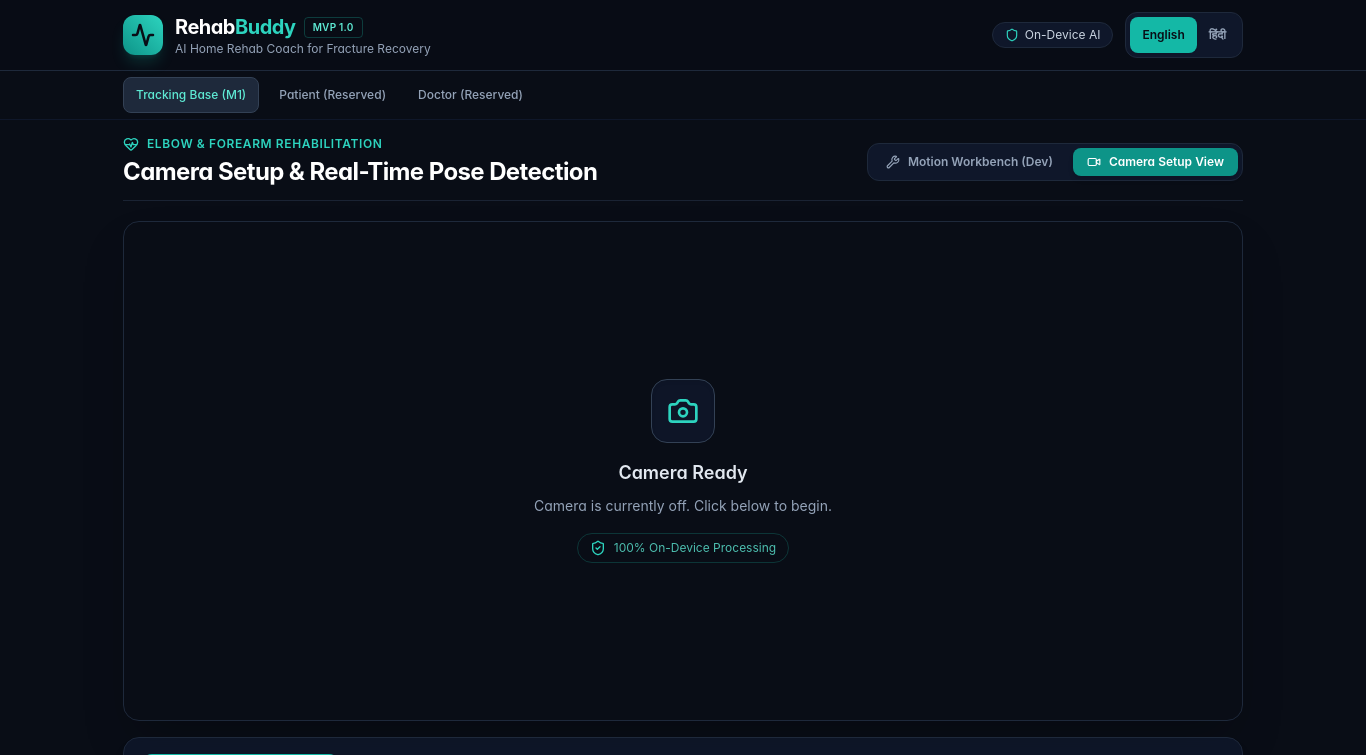
Scenario: App Initial Render and Accessibility › switches language from English to Hindi and updates UI text
Click the button named "हिंदी में बदलें".
click(1217, 35)  # box x1=1197 y1=17 x2=1238 y2=53
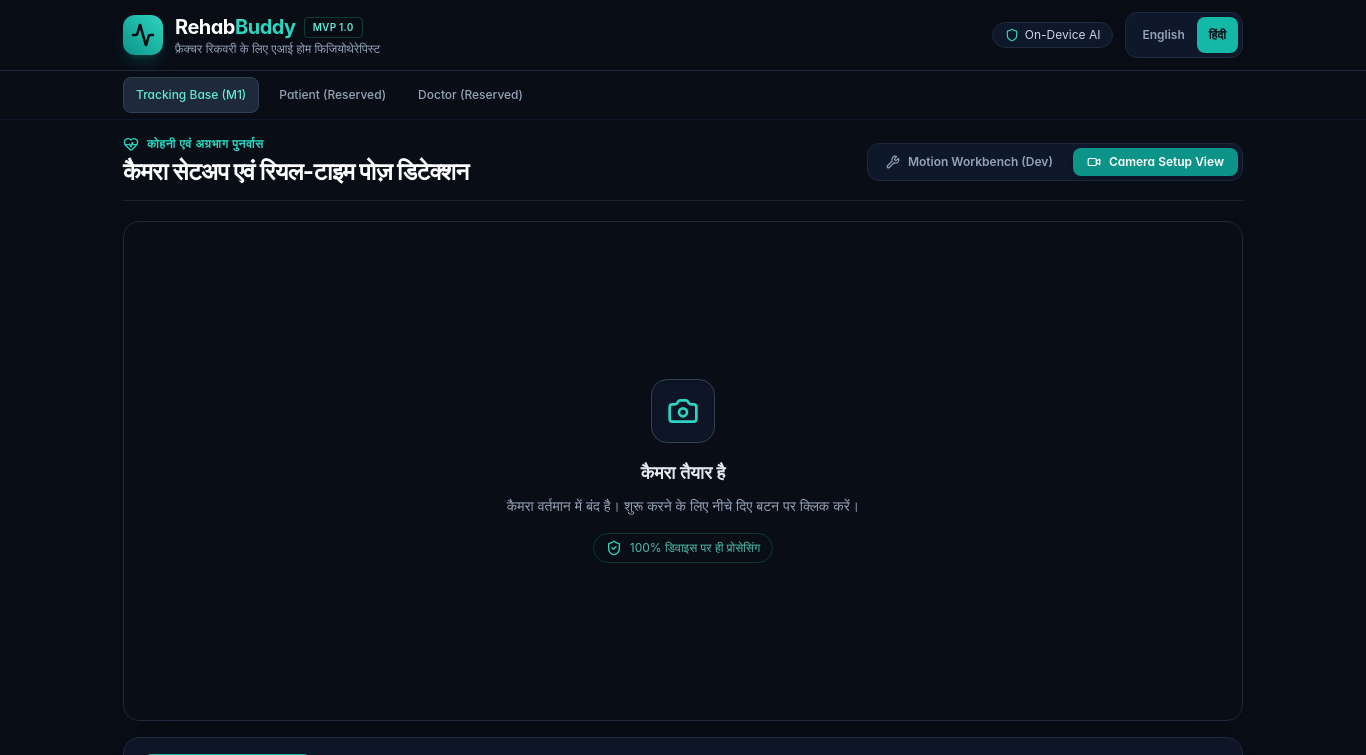
Check: the text "कोहनी एवं अग्रभाग पुनर्वास" is shown, box x1=147 y1=136 x2=264 y2=152
Click the button with aria-label "Switch to English".
click(1164, 35)  # box x1=1130 y1=17 x2=1197 y2=53
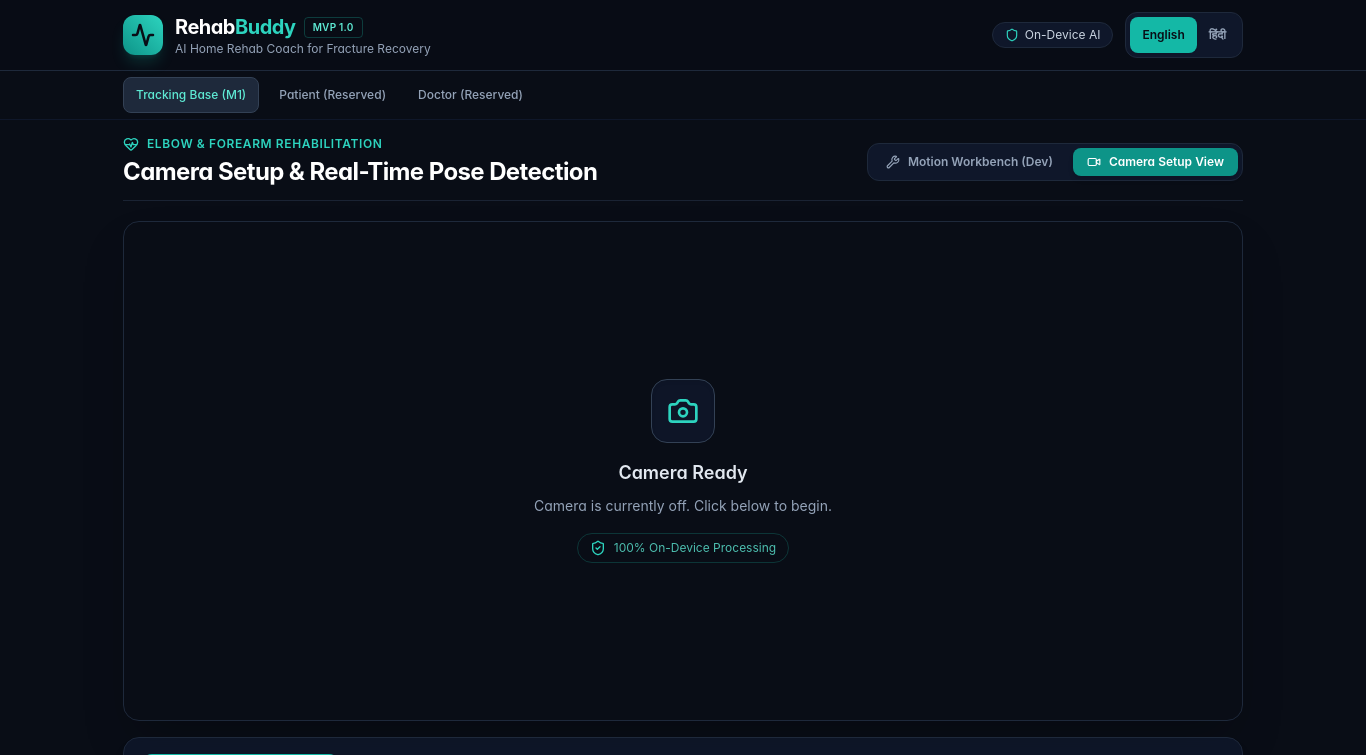
Check: the text "Elbow & Forearm Rehabilitation" is shown, box x1=147 y1=136 x2=382 y2=152
